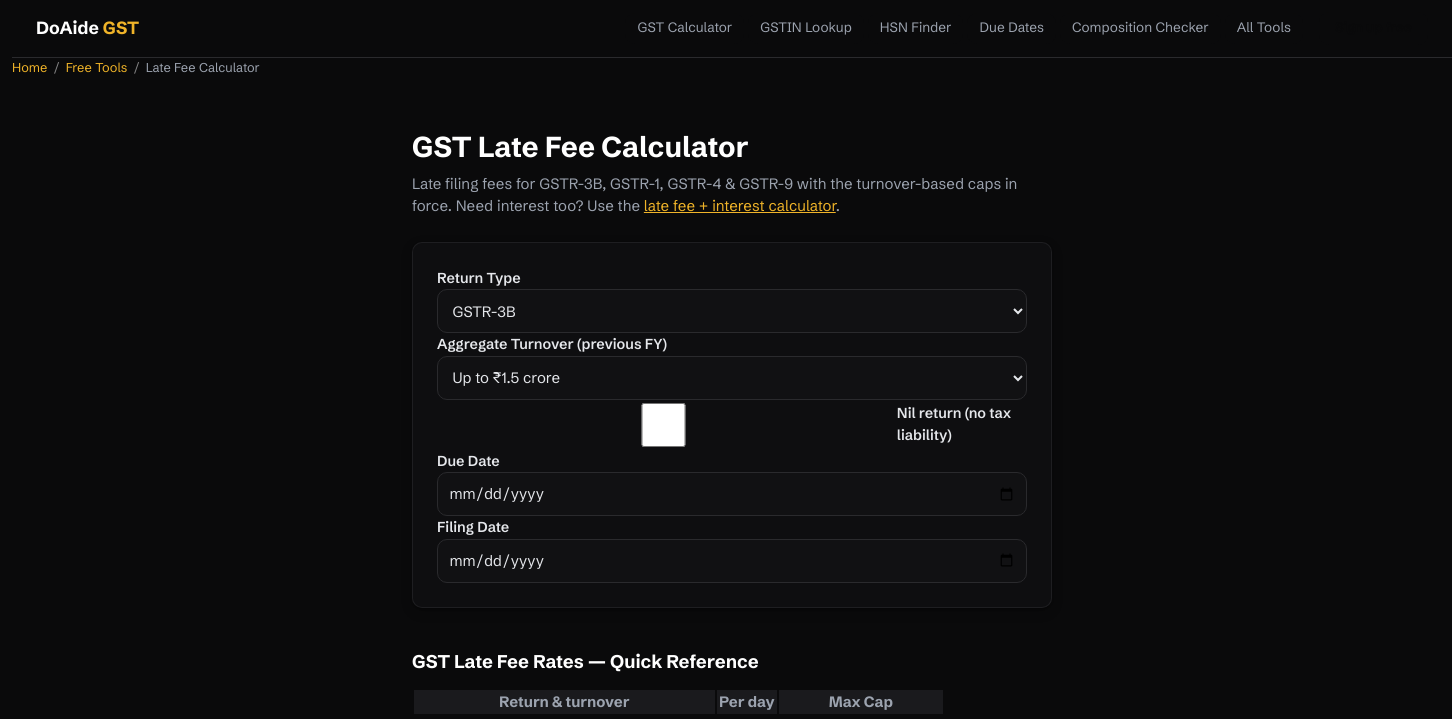
Test: LateFeeCalculatorPage › ties every label to its control
expect the date field labelled "Due Date" is shown: met, box [437,472,1027,516]
expect the date field labelled "Filing Date" is shown: met, box [437,539,1027,583]
Select "GSTR-9 (Annual Return)" in the dropdown labelled "Return Type" at (732, 311), box [437,289,1027,333]
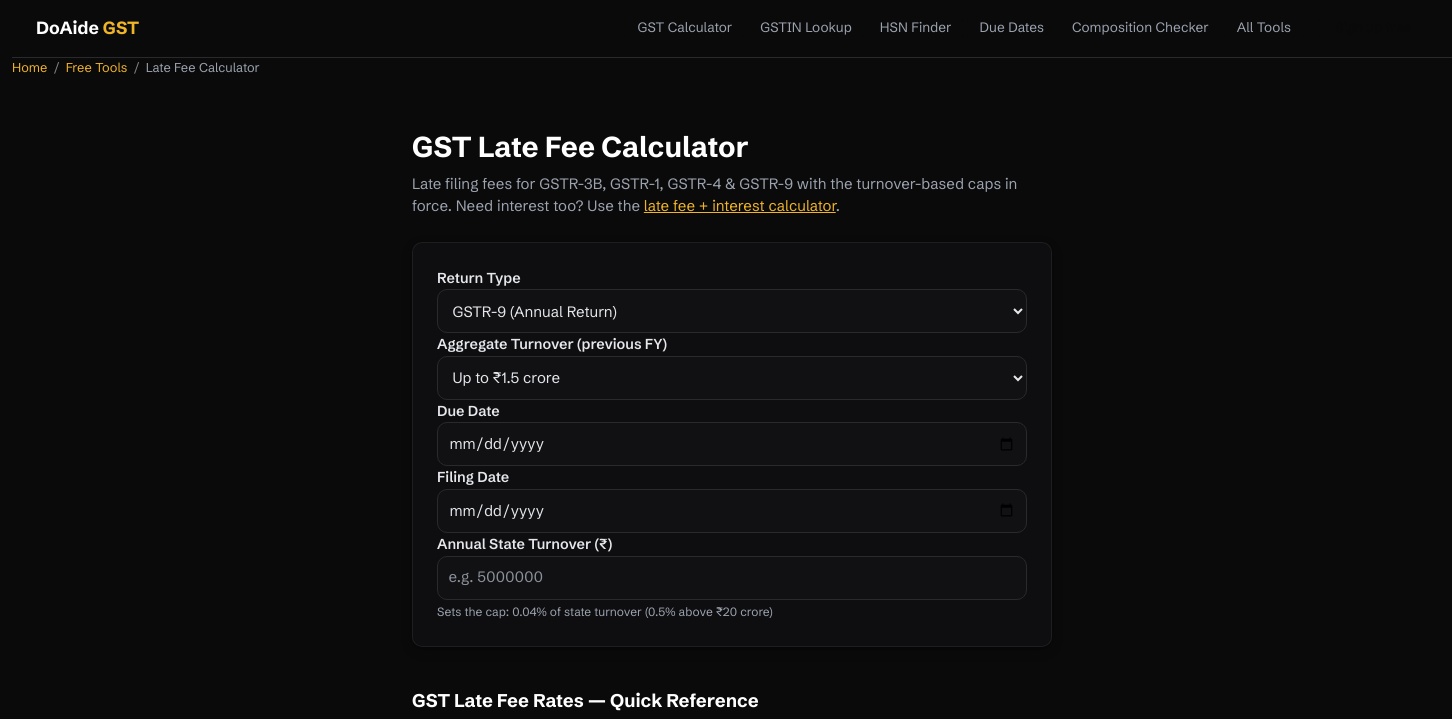
expect the number field labelled "Annual State Turnover (₹)" is shown: met, box [437,556,1027,600]
